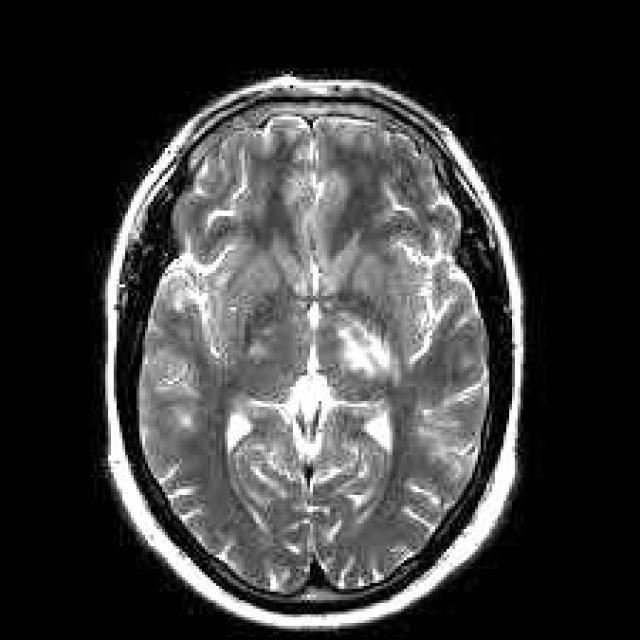notumor: (108, 77, 521, 629)
